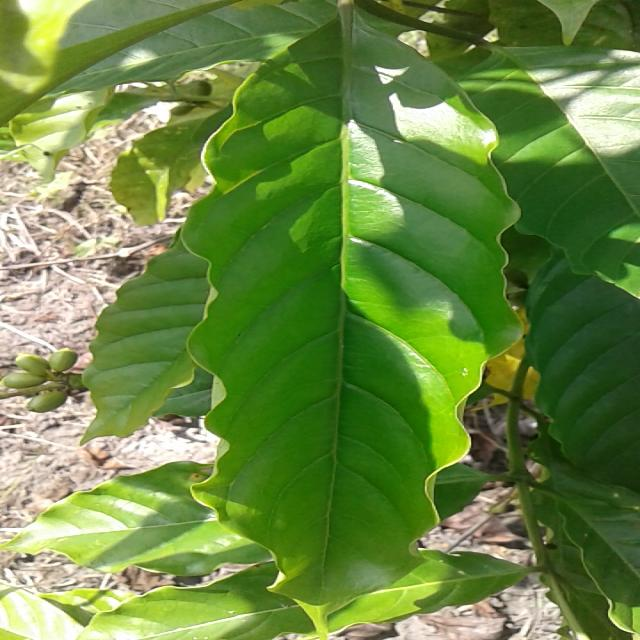Sanas: (180, 8, 524, 628)
